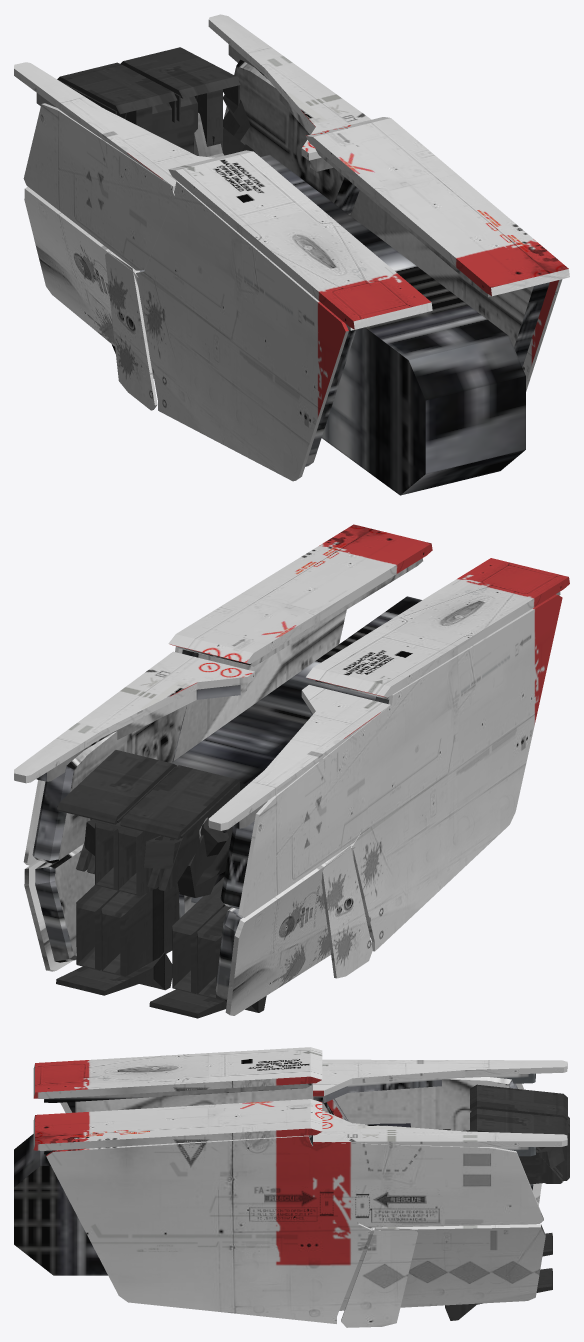
File: engine01.FBX
The picture shows the model from 3 angles, top to bottom: view 1: azimuth 30°, elevation 25°; view 2: azimuth 150°, elevation 25°; view 3: azimuth 270°, elevation 25°; orthographic projection. The views are drawn at different scales.
Visible parts, largest first — view 1: engine01; view 2: engine01; view 3: engine01.
Boxes of the visible parts, x1,y1,x2,y2 form: engine01: (14, 14, 569, 495); engine01: (14, 524, 569, 1018); engine01: (14, 1047, 569, 1327).
Bounding box in the file's own units: 194 × 225 × 550.
